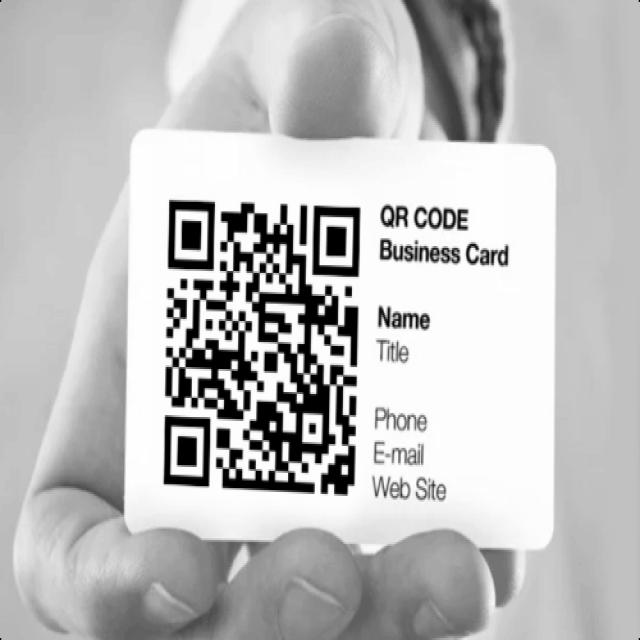QR-codes: (164, 196, 358, 500)
